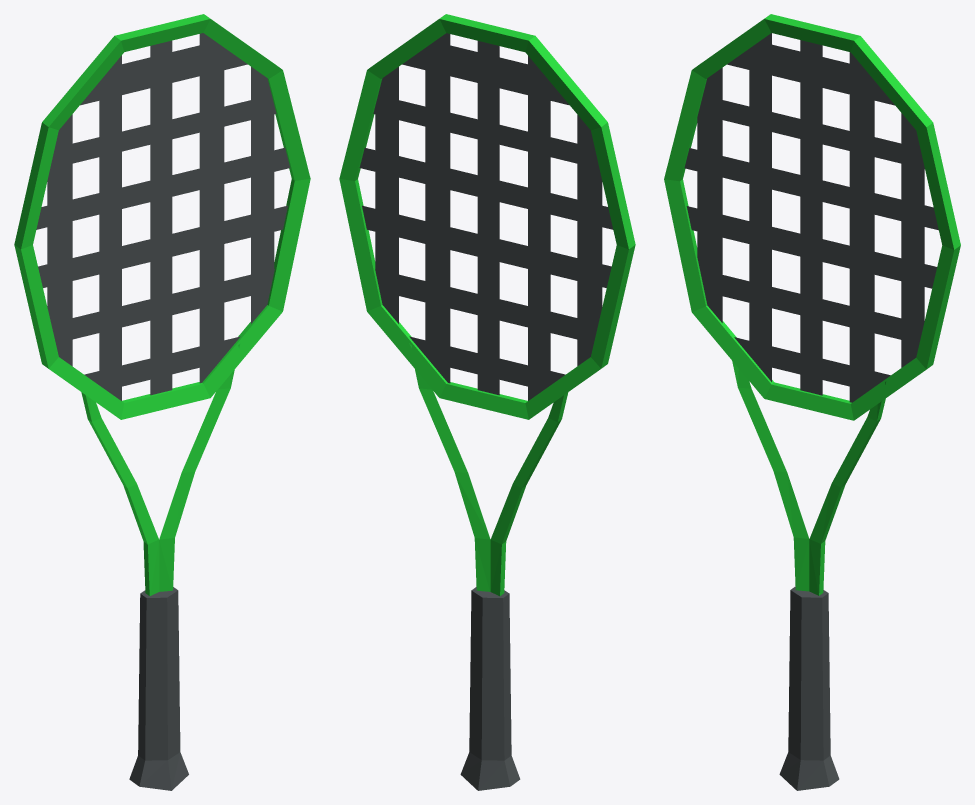
The model's file is Badminton_racket_green.fbx.
3 views of the same model, side by side, from view 1: azimuth 30°, elevation 25°; view 2: azimuth 150°, elevation 25°; view 3: azimuth 330°, elevation 25° (orthographic).
Parts seen in each view (by area): view 1: Badminton_racket_green; view 2: Badminton_racket_green; view 3: Badminton_racket_green.
Part boxes in pixels (box(x1,y1,x2,y2)): Badminton_racket_green: box(14, 14, 310, 790); Badminton_racket_green: box(339, 14, 635, 790); Badminton_racket_green: box(664, 14, 960, 790).
Size of the model in its own units: 26.05 by 64.78 by 3.86.
